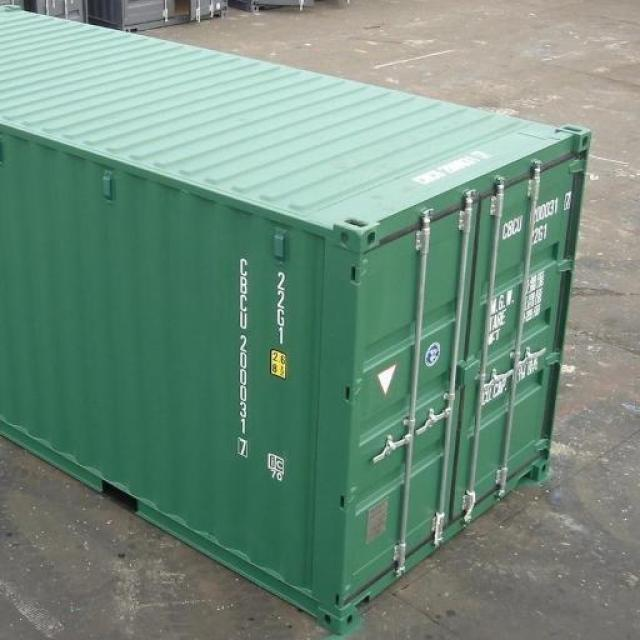ISO: (274, 270, 290, 353)
container_number: (232, 254, 253, 466)
